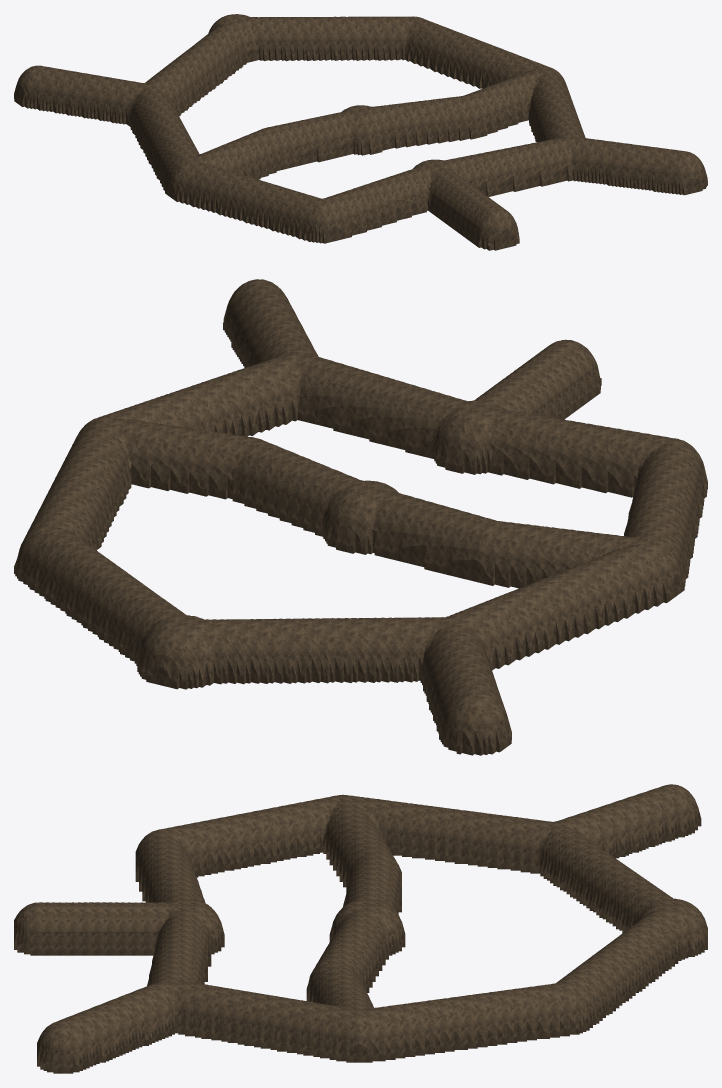
The model's file is map_5_v1.glb.
3 renders of one model, top to bottom at view 1: azimuth 30°, elevation 25°; view 2: azimuth 150°, elevation 25°; view 3: azimuth 270°, elevation 25°, orthographic. The views are drawn at different scales.
Parts seen in each view (by area): view 1: layered_limestone; view 2: layered_limestone; view 3: layered_limestone.
Part boxes in pixels (x1,y1,x2,y2): layered_limestone: [14, 14, 707, 250]; layered_limestone: [14, 279, 707, 755]; layered_limestone: [14, 784, 707, 1073].
Bounding box in the file's own units: 150 × 10.61 × 169.
Materials: 3 (3 with a texture image).
